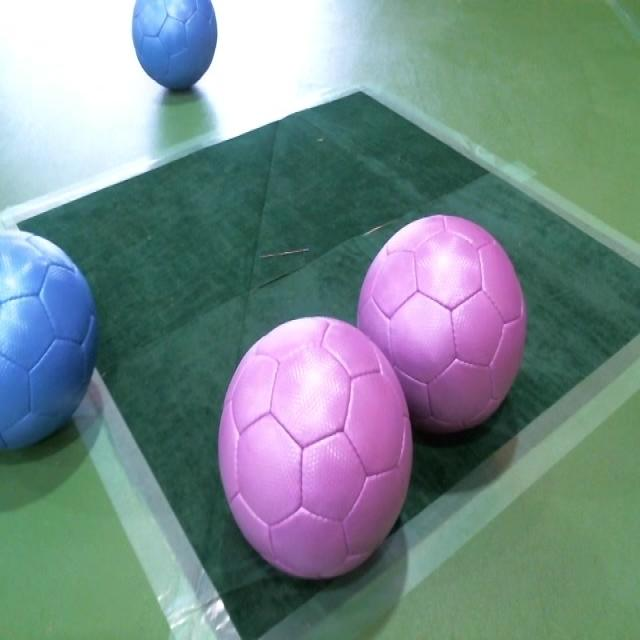blue_ball: (0, 230, 95, 452), (131, 0, 217, 93)
purple_ball: (216, 312, 411, 580), (358, 213, 530, 437)
